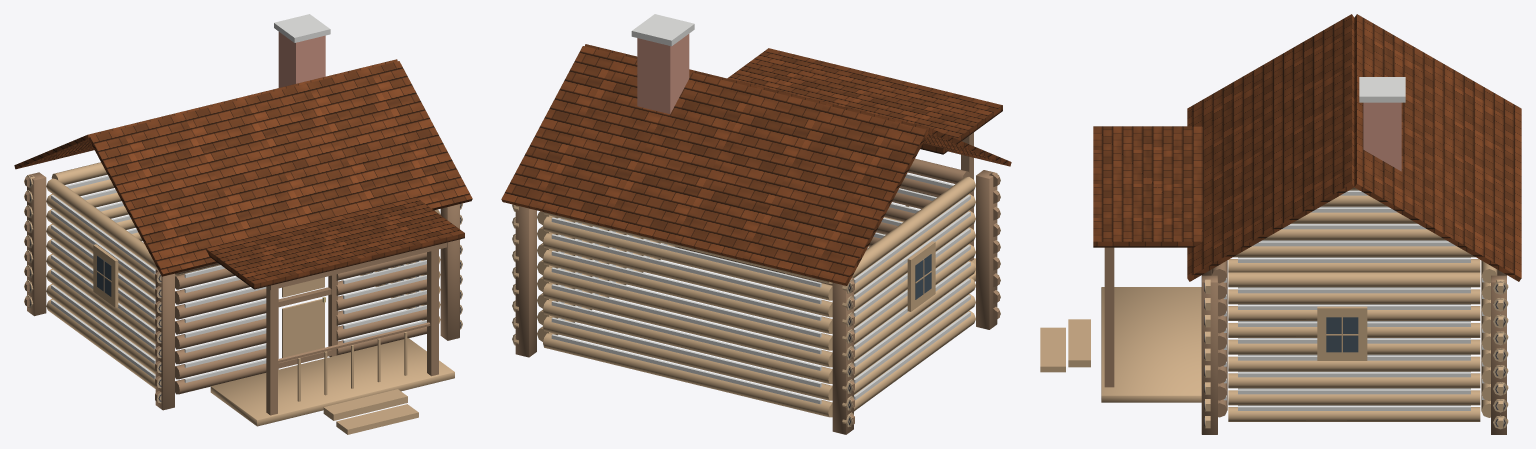
Rendered from Cabin.fbx.
The picture shows the model from 3 angles, left to right: view 1: azimuth 30°, elevation 25°; view 2: azimuth 150°, elevation 25°; view 3: azimuth 270°, elevation 25°; orthographic projection. The views are drawn at different scales.
Visible parts, largest first — view 1: LOD0; view 2: LOD0; view 3: LOD0.
Boxes of the visible parts, bbox=[...] form: LOD0: bbox=[14, 14, 472, 434]; LOD0: bbox=[501, 14, 1011, 434]; LOD0: bbox=[1040, 14, 1521, 434].
Size of what is drawn, in the model's own units: 500 by 420 by 599.
